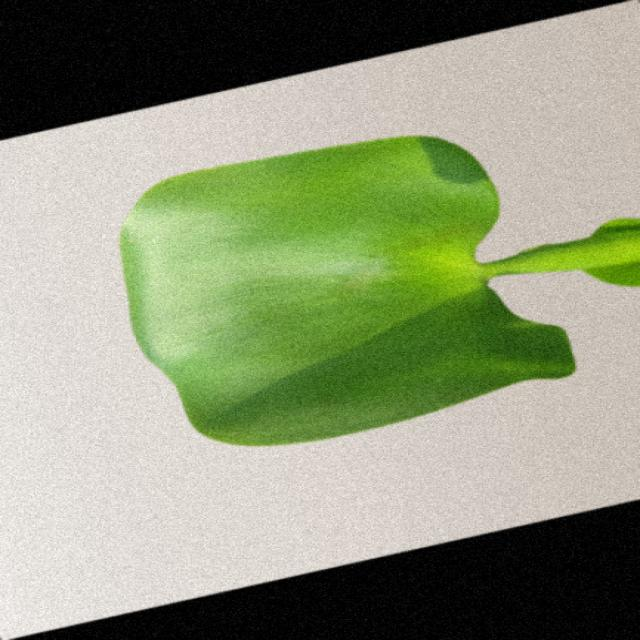daun sehat: (120, 136, 638, 444)
